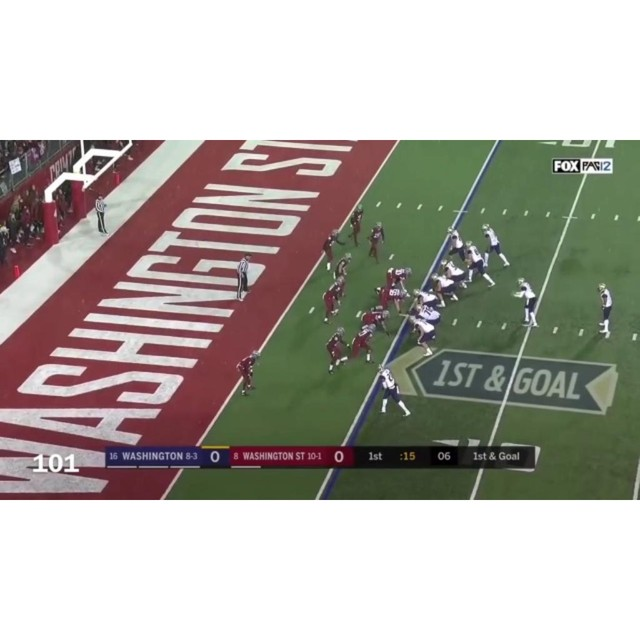american-football-player: (377, 366, 412, 417), (464, 241, 494, 289), (346, 321, 378, 365), (514, 277, 539, 328), (482, 223, 510, 268), (236, 350, 261, 396), (409, 315, 436, 357), (325, 328, 349, 375), (373, 286, 409, 317), (322, 278, 346, 324), (376, 267, 412, 297), (596, 281, 614, 339), (431, 272, 459, 307), (358, 309, 391, 337), (321, 229, 341, 272), (445, 227, 468, 264), (441, 258, 468, 289), (348, 205, 365, 247), (368, 222, 385, 263), (333, 253, 352, 284), (413, 288, 440, 309)
referee: (235, 253, 252, 300), (93, 193, 109, 235)
